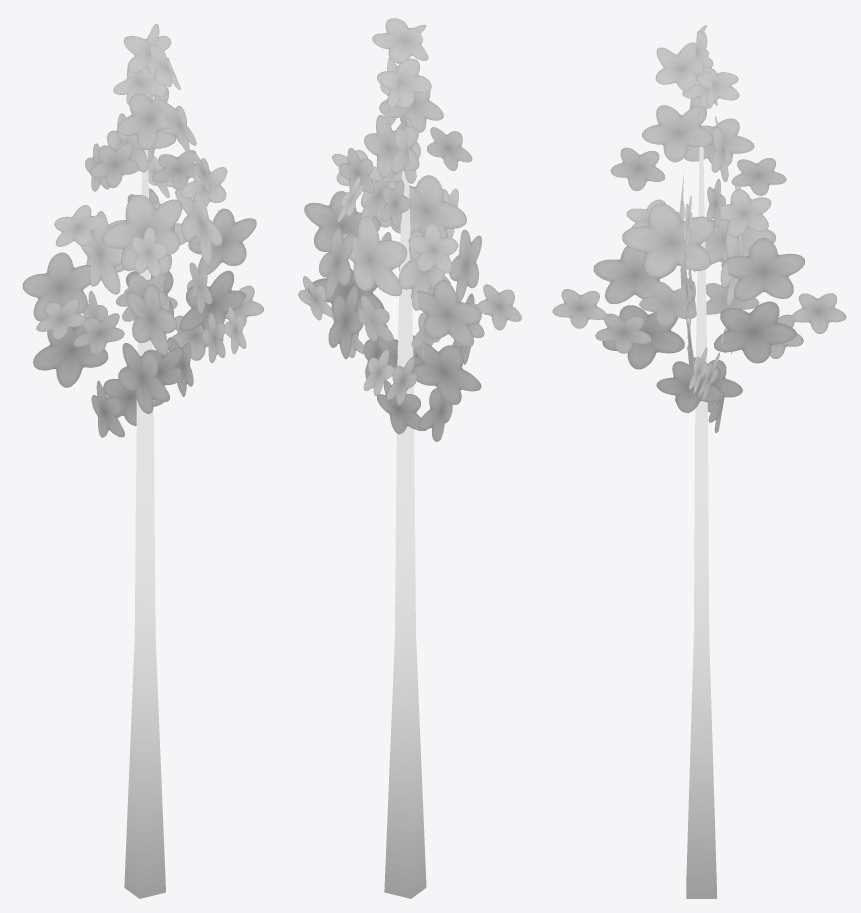
File: SM_FlowerSingle_03_Unity.fbx
3 views of the same model, side by side, from view 1: azimuth 30°, elevation 25°; view 2: azimuth 150°, elevation 25°; view 3: azimuth 270°, elevation 25° (orthographic).
Visible parts, largest first — view 1: SM_FlowerSingle_03_LOD0; view 2: SM_FlowerSingle_03_LOD0; view 3: SM_FlowerSingle_03_LOD0.
Part boxes in pixels (x1,y1,x2,y2): SM_FlowerSingle_03_LOD0: (22, 24, 263, 898); SM_FlowerSingle_03_LOD0: (298, 18, 521, 898); SM_FlowerSingle_03_LOD0: (552, 25, 846, 898).
Size of what is drawn, in the model's own units: 0.2368 by 0.8634 by 0.2646.
